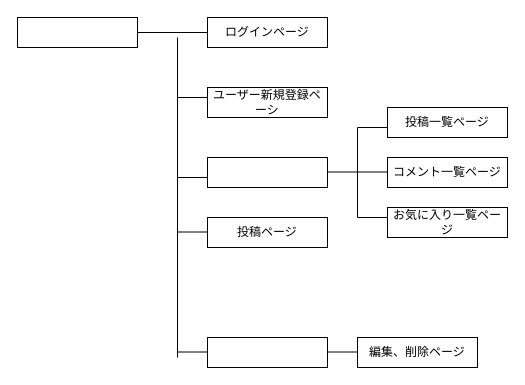
Some shapes in this 525 by 385 pixel diagram are drawn without their labels. Here are the shapes that lost their labels. From the top down, the box of each, then its label:
(16, 16, 138, 48): 一覧ページ
(206, 156, 328, 188): ユーザーマイページ
(206, 336, 328, 368): 詳細ページ
